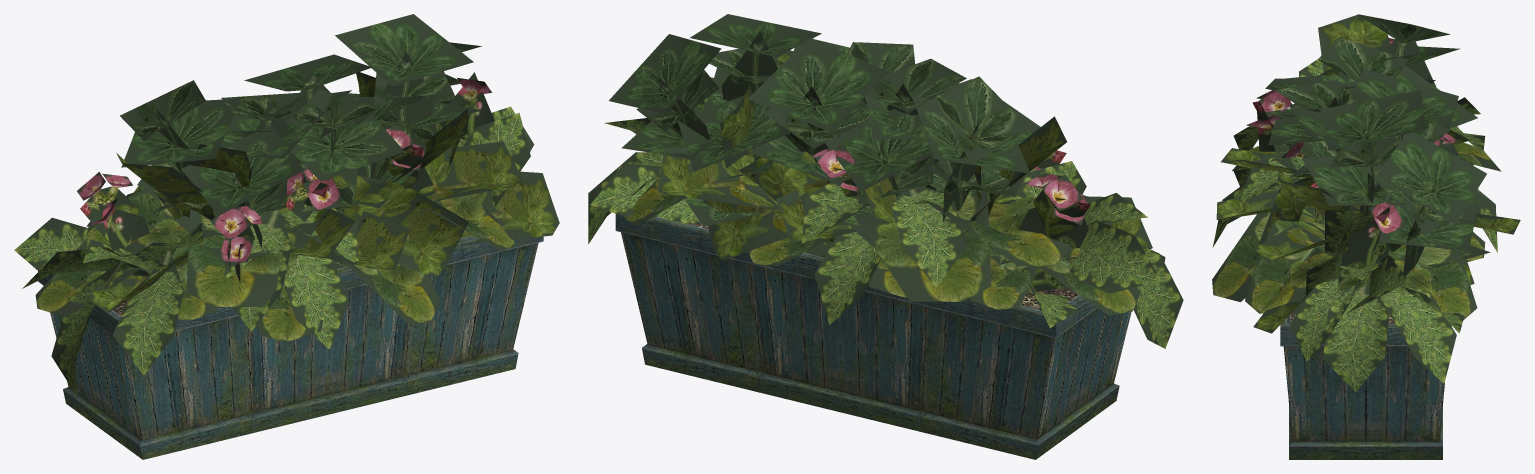
File: Flower01.FBX
3 renders of one model, left to right at view 1: azimuth 30°, elevation 25°; view 2: azimuth 150°, elevation 25°; view 3: azimuth 270°, elevation 25°, orthographic. The views are drawn at different scales.
Visible parts, largest first — view 1: LV_Spechia_Foliage_FP01_PM_IJH; view 2: LV_Spechia_Foliage_FP01_PM_IJH; view 3: LV_Spechia_Foliage_FP01_PM_IJH.
Boxes of the visible parts, x1,y1,x2,y2 form: LV_Spechia_Foliage_FP01_PM_IJH: [14, 14, 559, 459]; LV_Spechia_Foliage_FP01_PM_IJH: [588, 14, 1183, 459]; LV_Spechia_Foliage_FP01_PM_IJH: [1212, 14, 1520, 459].
Bounding box in the file's own units: 38.2 × 21.87 × 19.5.
